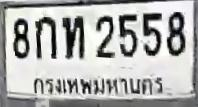2: (95, 14, 114, 58)
5: (142, 12, 161, 56), (118, 12, 136, 56)
8: (166, 11, 185, 56), (12, 17, 29, 58)
A01: (34, 16, 56, 59)
A23: (62, 15, 84, 58)
BKK: (30, 74, 168, 99)
